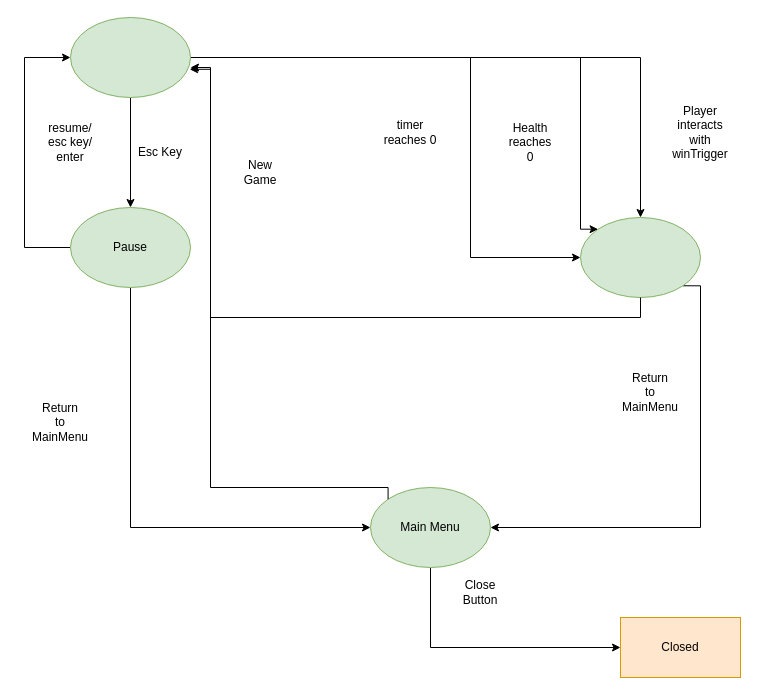
Some shapes in this 758 by 695 pixel diagram are drawn without their labels. The shapes that lost their labels are listed below. From the top down, each one's centre as x and y in pixels, then its label:
At (x=130, y=57): "Gameplay".
At (x=640, y=257): "Win/LoseScreen".
